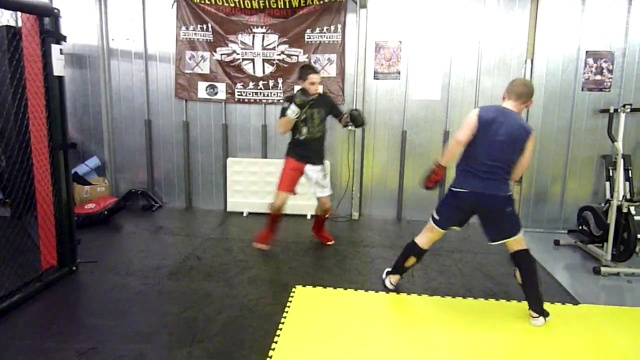person: (381, 77, 549, 330), (253, 67, 365, 258)
